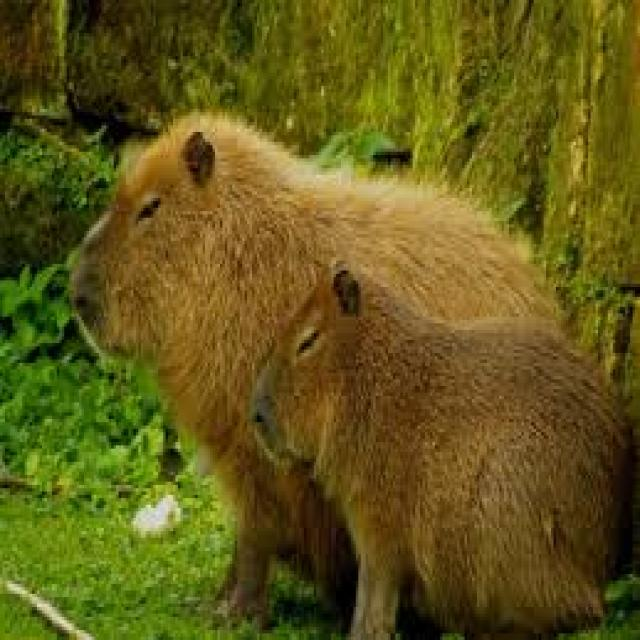capy: (67, 109, 547, 580), (245, 261, 640, 627)
